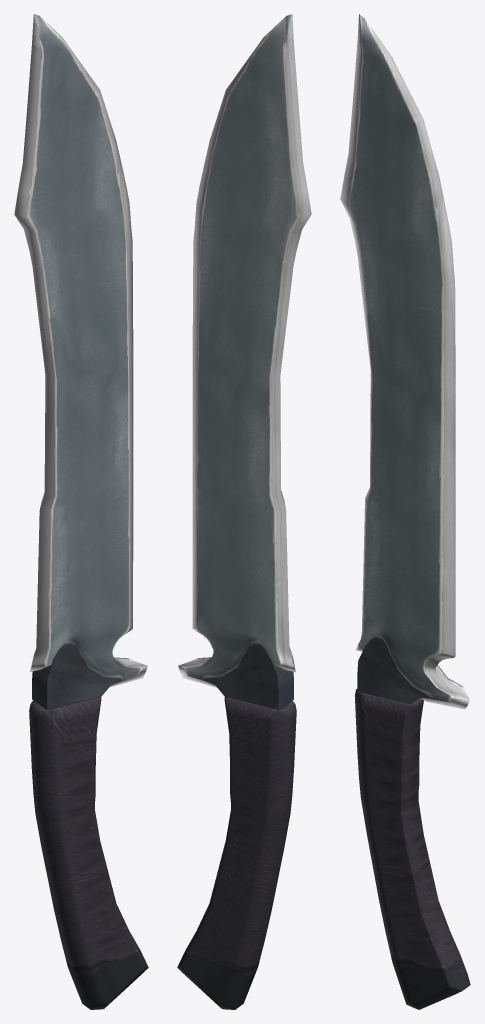
The model's file is Machete.fbx.
3 renders of one model, left to right at view 1: azimuth 30°, elevation 25°; view 2: azimuth 150°, elevation 25°; view 3: azimuth 330°, elevation 25°, orthographic. The views are drawn at different scales.
Visible parts, largest first — view 1: sword; view 2: sword; view 3: sword.
Part boxes in pixels (x1,y1,x2,y2): sword: [14, 14, 148, 1009]; sword: [177, 14, 311, 1009]; sword: [340, 14, 470, 1009].
Size of the model in its own units: 15.11 by 3.39 by 109.
1 material, 1 textured.
